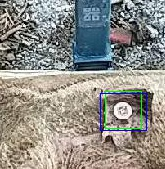text: (105, 91, 141, 128)
